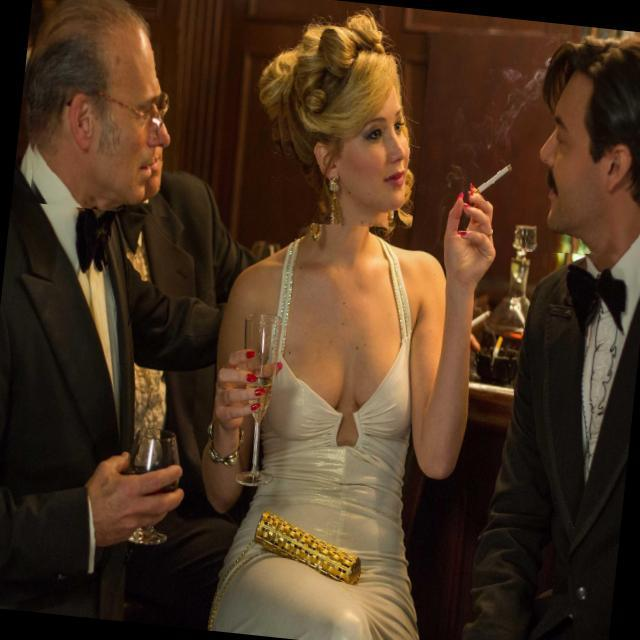cigarette: (469, 148, 516, 204)
